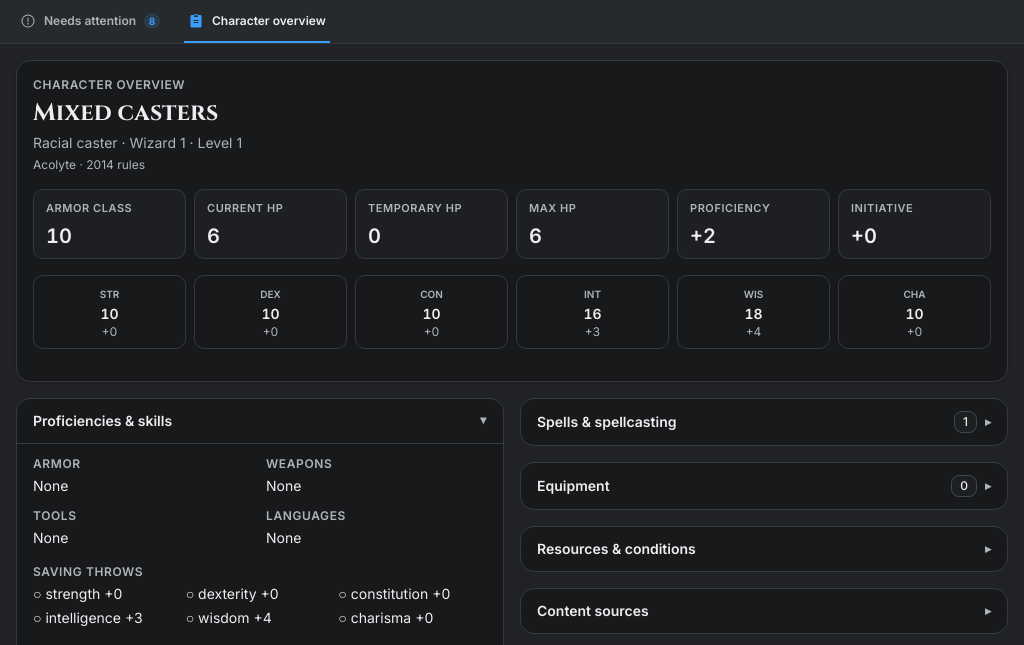
Test: class preparation limits and slot pools remain class-specific beside racial casting
This screenshot has width=1024, height=645.
Click the text "Spells & spellcasting": click(607, 422) x1=537 y1=412 x2=676 y2=432
(page scrolled)
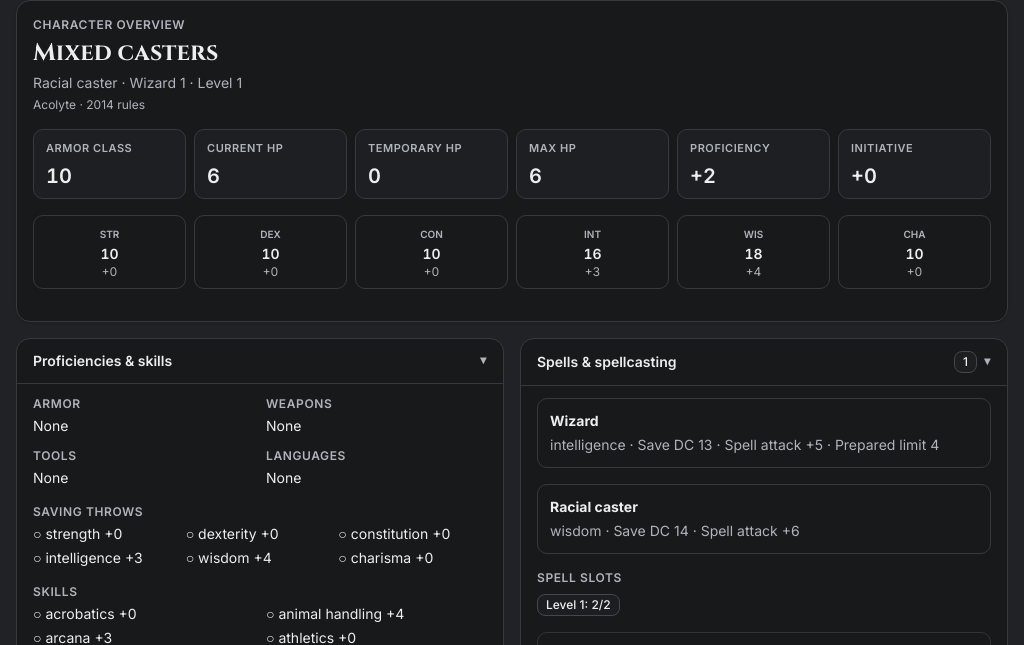
Now the text "wisdom · Save DC 14 · Spell attack +6" is shown, box x1=550 y1=522 x2=800 y2=539
Now the text "Prepared limit" is shown once, box x1=550 y1=435 x2=978 y2=455
Now the text "Level 1: 2/2" is shown, box x1=537 y1=594 x2=620 y2=616
